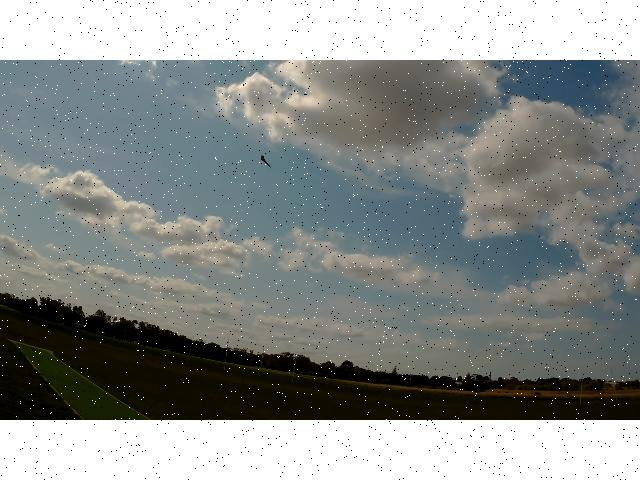Anti-Drone: (260, 156, 274, 168)
